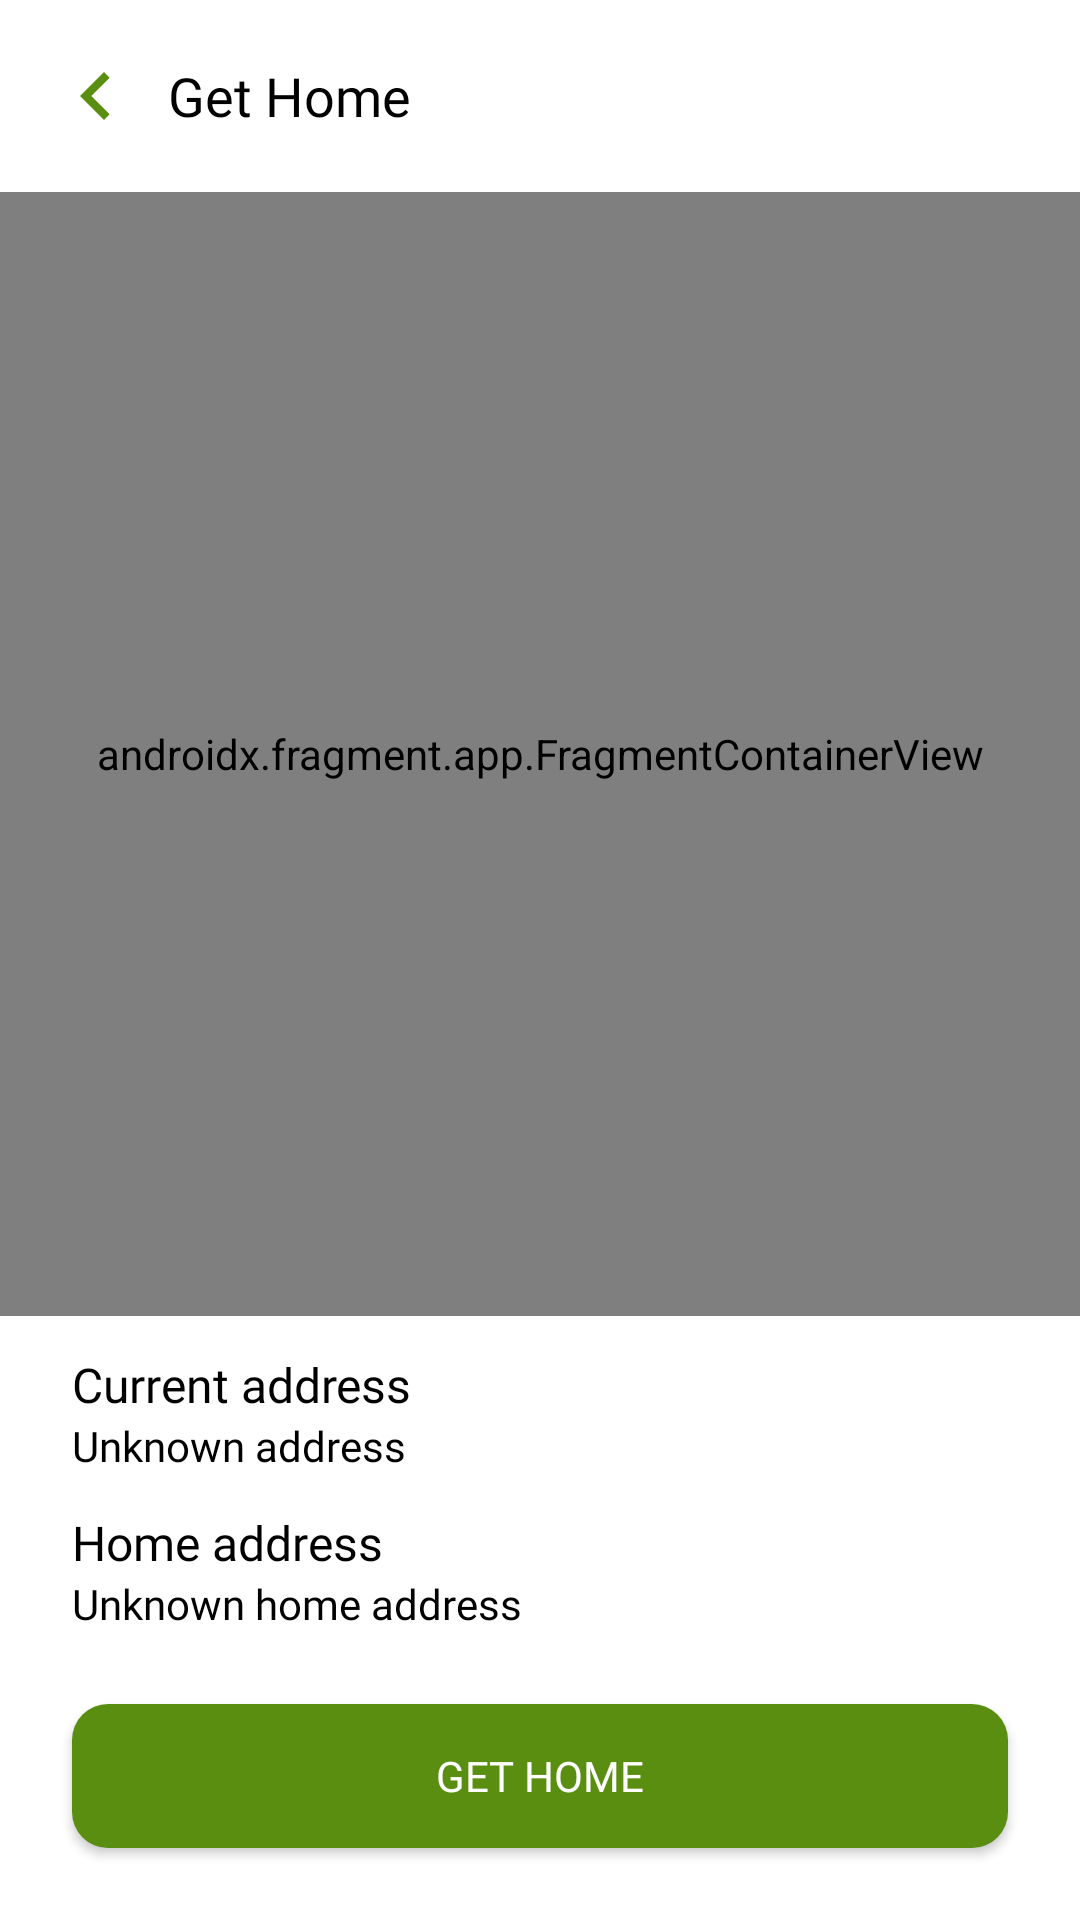

Screen size 1080 x 1920. Icon name, then its box in pixels as bbox(x1, y1, x2, y2):
chevron left: bbox(80, 72, 110, 120)
